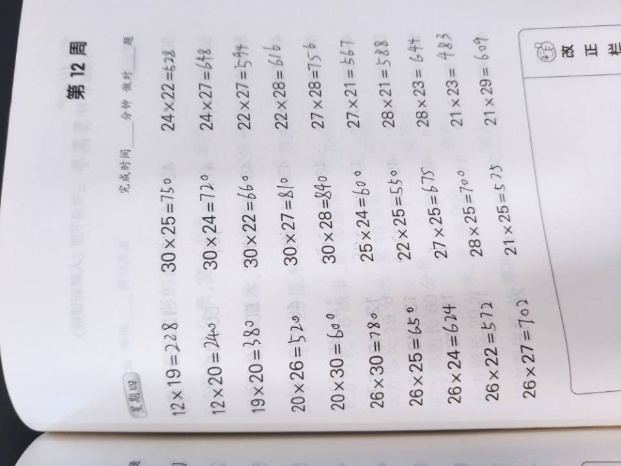equation: (195, 307, 233, 425), (149, 309, 187, 426), (147, 168, 185, 285), (382, 161, 420, 278), (316, 306, 354, 423), (305, 168, 343, 285), (397, 301, 435, 418), (489, 155, 527, 272), (400, 24, 438, 141), (470, 24, 508, 141), (224, 23, 262, 140), (257, 27, 295, 144), (294, 24, 332, 141), (333, 23, 371, 140), (184, 26, 222, 143), (148, 25, 186, 142), (279, 307, 316, 425), (239, 305, 276, 423), (187, 164, 224, 282), (226, 164, 263, 282), (367, 28, 404, 146), (268, 162, 305, 279), (358, 303, 395, 420), (343, 159, 380, 276), (452, 154, 489, 271), (417, 158, 454, 275), (510, 293, 547, 410), (473, 293, 510, 410), (435, 298, 472, 415), (433, 26, 470, 143)
